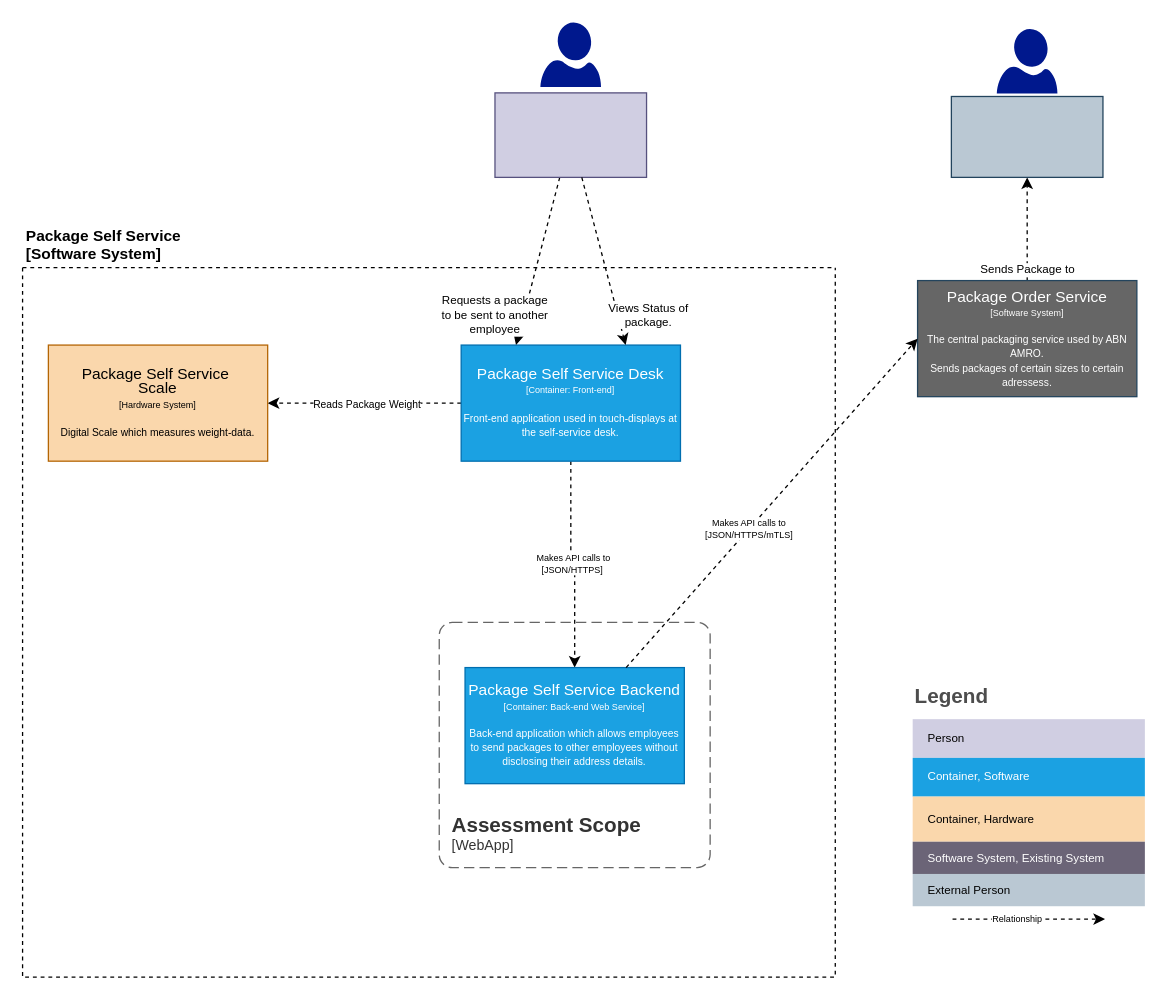
The diagram is 1167 pixels wide and 1000 high, and some of its shapes have lost their labels. Here are the shapes that lost their labels. From the top down, the centre of each, then its label:
(x=570, y=134): Package Self Service User [Person] An ABN AMRO employee.
(x=1026, y=136): Package Receiver [Stakeholder] An ABN AMRO employee.
